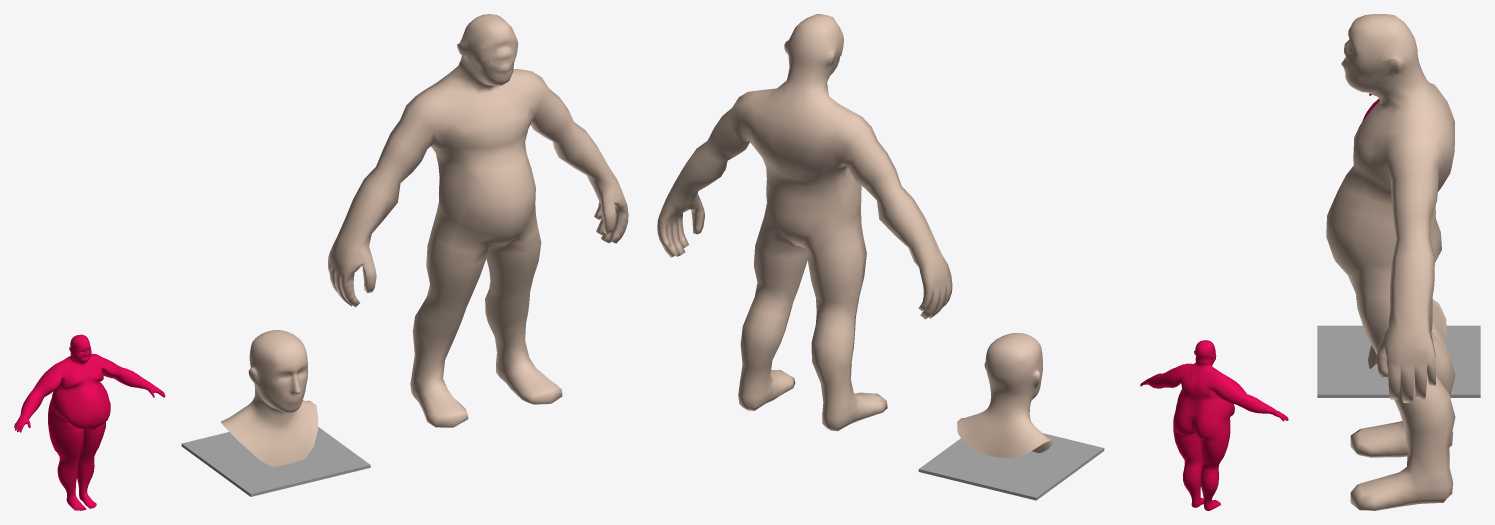
3 views of the same model, side by side, from view 1: azimuth 30°, elevation 25°; view 2: azimuth 150°, elevation 25°; view 3: azimuth 270°, elevation 25° (orthographic). The views are drawn at different scales.
Visible parts, largest first — view 1: MonsterCyclops:cyclop1; view 2: MonsterCyclops:cyclop1; view 3: MonsterCyclops:cyclop1.
Part boxes in pixels (x1=…): MonsterCyclops:cyclop1: x1=14, y1=14, x2=628, y2=510; MonsterCyclops:cyclop1: x1=657, y1=14, x2=1288, y2=510; MonsterCyclops:cyclop1: x1=1317, y1=14, x2=1480, y2=510.
Size of the model in its own units: 209 by 128 by 40.51.
